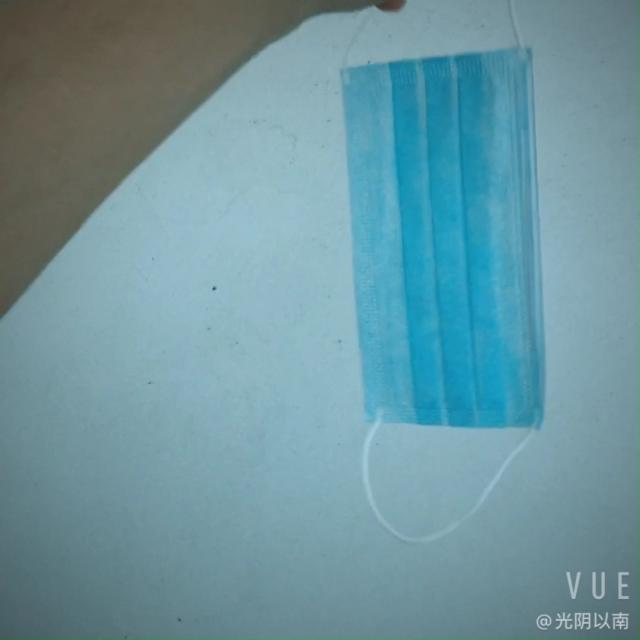non-organic waste: (331, 42, 575, 431)
